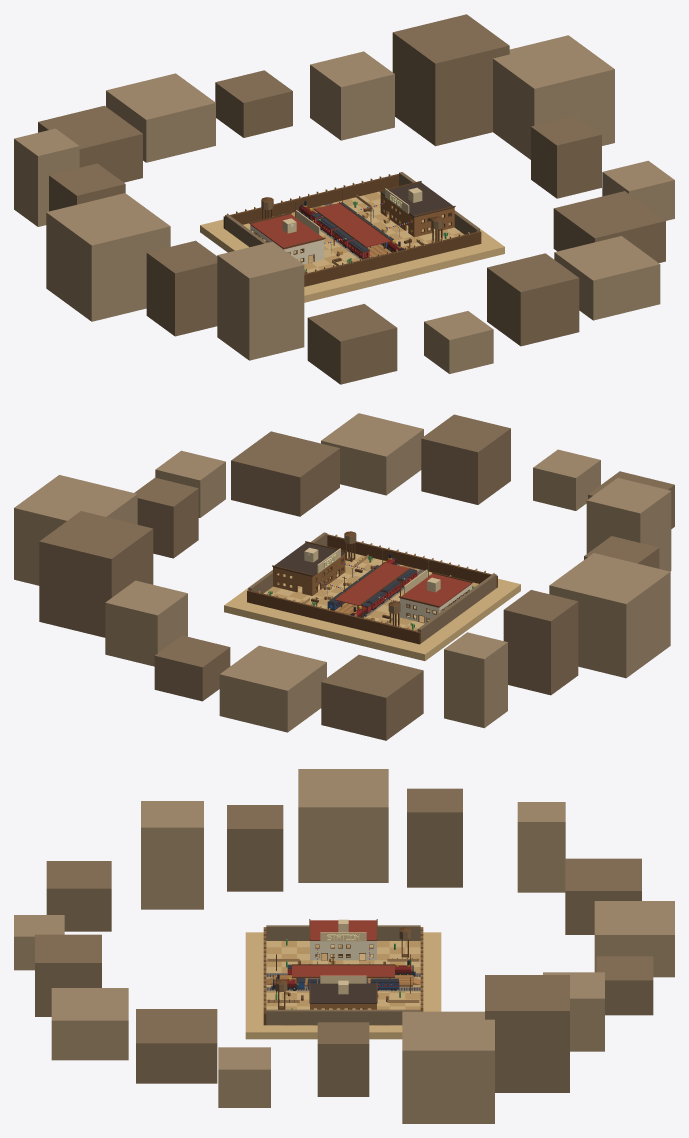
The model's file is station.glb.
3 views of the same model, one above another, from view 1: azimuth 30°, elevation 25°; view 2: azimuth 150°, elevation 25°; view 3: azimuth 270°, elevation 25° (orthographic). The views are drawn at different scales.
Visible parts, largest first — view 1: station_Scenery_rock, station_Scenery_rockD, station_Ground_dirt, station_Perimeter_woodDark, station_Ground_dirtDark, station_Platform_roofR, station_Buildings_roofR, station_Buildings_wood, station_Perimeter_rockD, station_Buildings_roofB, station_Signs_plasterB, station_Buildings_plasterC; view 2: station_Scenery_rock, station_Scenery_rockD, station_Ground_dirt, station_Perimeter_woodDark, station_Perimeter_rockD, station_Ground_dirtDark, station_Buildings_wood, station_Platform_roofR, station_Buildings_roofR, station_Buildings_roofB, station_Signs_plasterB, station_Buildings_plasterC (+1 smaller); view 3: station_Scenery_rock, station_Scenery_rockD, station_Ground_dirt, station_Perimeter_rockD, station_Ground_dirtDark, station_Buildings_roofB, station_Platform_roofR, station_Signs_plasterB, station_Buildings_plasterC, station_Buildings_roofR.
Boxes of the visible parts, x1=… form: station_Scenery_rock: x1=14, y1=35, x2=674, y2=373; station_Scenery_rockD: x1=38, y1=14, x2=665, y2=384; station_Ground_dirt: x1=200, y1=175, x2=504, y2=302; station_Perimeter_woodDark: x1=223, y1=174, x2=481, y2=286; station_Ground_dirtDark: x1=291, y1=192, x2=464, y2=269; station_Platform_roofR: x1=315, y1=203, x2=390, y2=247; station_Buildings_roofR: x1=250, y1=214, x2=324, y2=249; station_Buildings_wood: x1=380, y1=193, x2=454, y2=237; station_Perimeter_rockD: x1=225, y1=172, x2=479, y2=273; station_Buildings_roofB: x1=380, y1=182, x2=454, y2=217; station_Signs_plasterB: x1=282, y1=187, x2=422, y2=234; station_Buildings_plasterC: x1=250, y1=225, x2=324, y2=264; station_Scenery_rock: x1=14, y1=413, x2=671, y2=732; station_Scenery_rockD: x1=39, y1=414, x2=674, y2=740; station_Ground_dirt: x1=224, y1=537, x2=520, y2=660; station_Perimeter_woodDark: x1=247, y1=534, x2=497, y2=644; station_Perimeter_rockD: x1=248, y1=532, x2=496, y2=643; station_Ground_dirtDark: x1=267, y1=551, x2=478, y2=630; station_Buildings_wood: x1=273, y1=553, x2=345, y2=595; station_Platform_roofR: x1=335, y1=562, x2=409, y2=605; station_Buildings_roofR: x1=400, y1=573, x2=471, y2=607; station_Buildings_roofB: x1=273, y1=542, x2=345, y2=576; station_Signs_plasterB: x1=304, y1=547, x2=440, y2=593; station_Buildings_plasterC: x1=400, y1=584, x2=471, y2=623; station_Scenery_rock: x1=14, y1=769, x2=674, y2=1123; station_Scenery_rockD: x1=35, y1=788, x2=653, y2=1096; station_Ground_dirt: x1=245, y1=932, x2=441, y2=1039; station_Perimeter_rockD: x1=266, y1=925, x2=420, y2=1025; station_Ground_dirtDark: x1=266, y1=941, x2=420, y2=1025; station_Buildings_roofB: x1=310, y1=983, x2=376, y2=1003; station_Platform_roofR: x1=292, y1=965, x2=394, y2=977; station_Signs_plasterB: x1=320, y1=919, x2=366, y2=994; station_Buildings_plasterC: x1=310, y1=941, x2=376, y2=960; station_Buildings_roofR: x1=310, y1=920, x2=376, y2=940.
Size of the model in its own units: 256 by 38.15 by 257.
